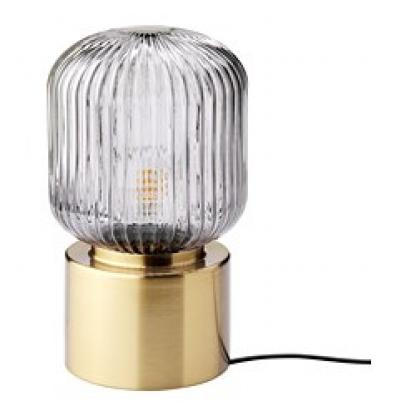Lamp: (27, 8, 268, 401)
